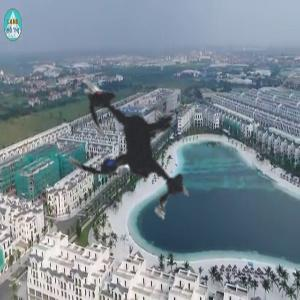drone: (2, 13, 272, 283)
